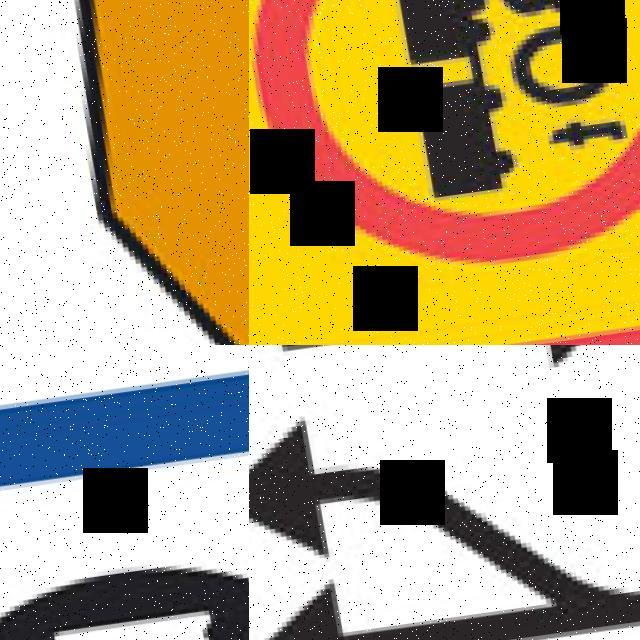179: (249, 345, 640, 640)
24: (8, 0, 249, 345)
56: (0, 345, 249, 640)
axle weight limit 30tonnes: (249, 0, 640, 345)
